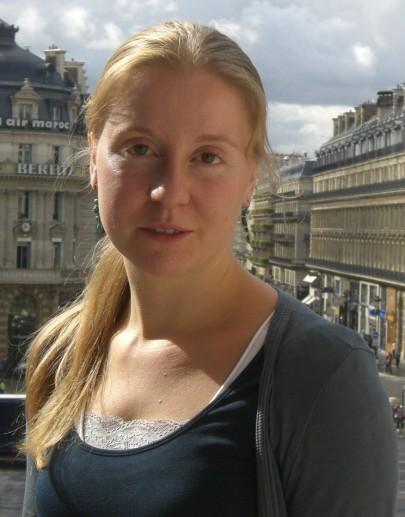bare: (98, 173, 239, 266)
